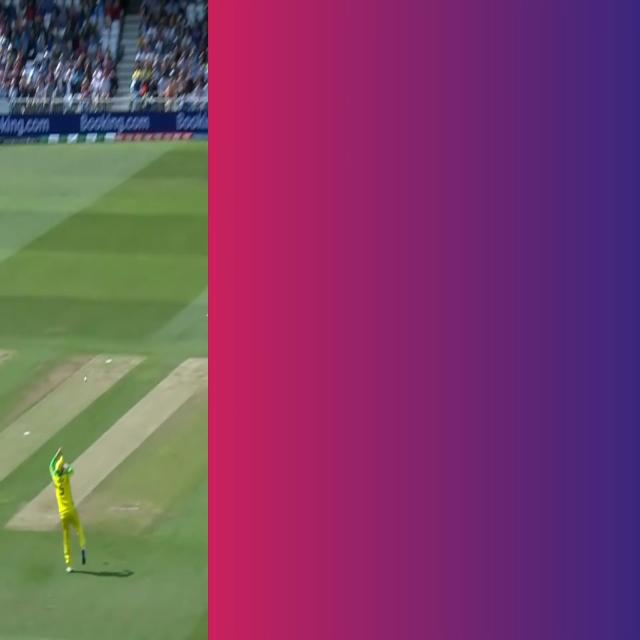ball: (82, 371, 88, 388)
